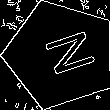N_W: (28, 27, 92, 82)
